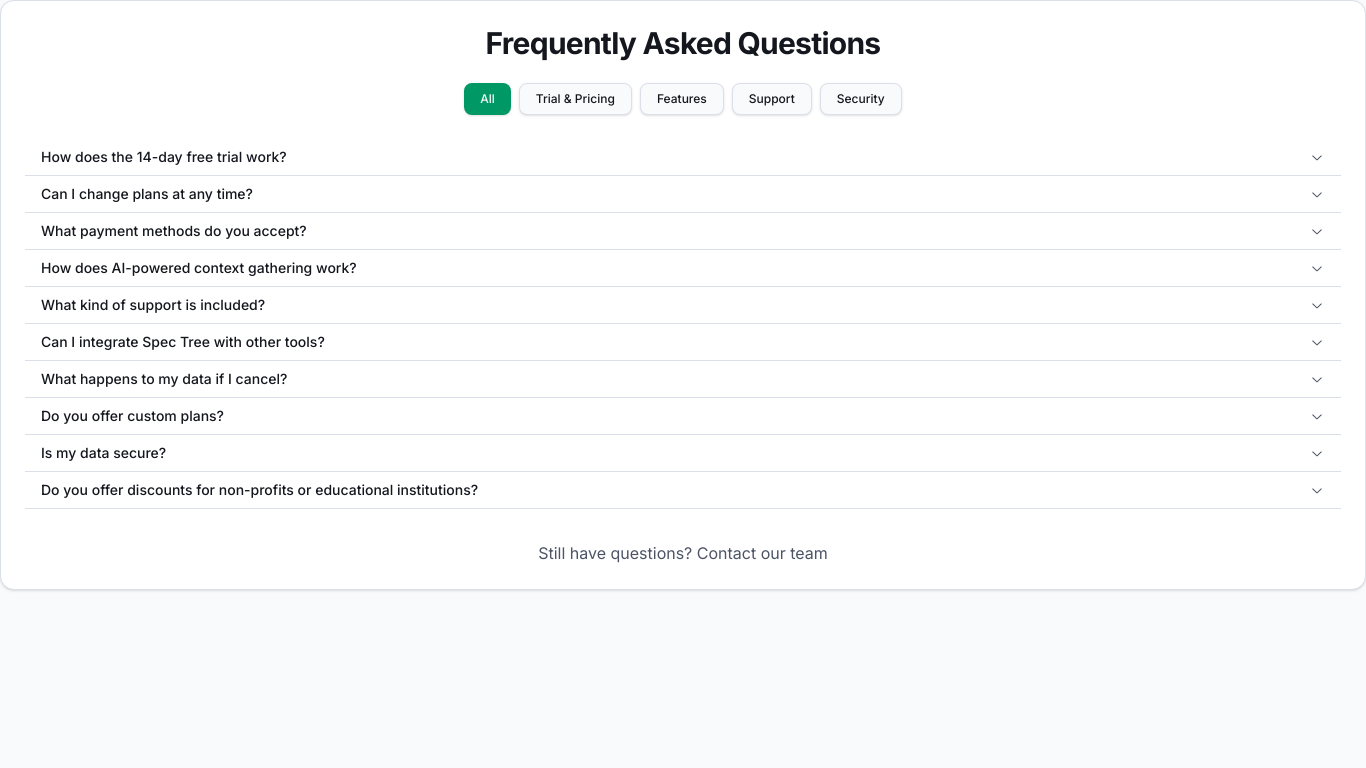
Scenario: PricingFAQ › shows all FAQs when All button is clicked
First filter to Security
Click the button "Security".
click(861, 99)  # box [820,83,902,115]
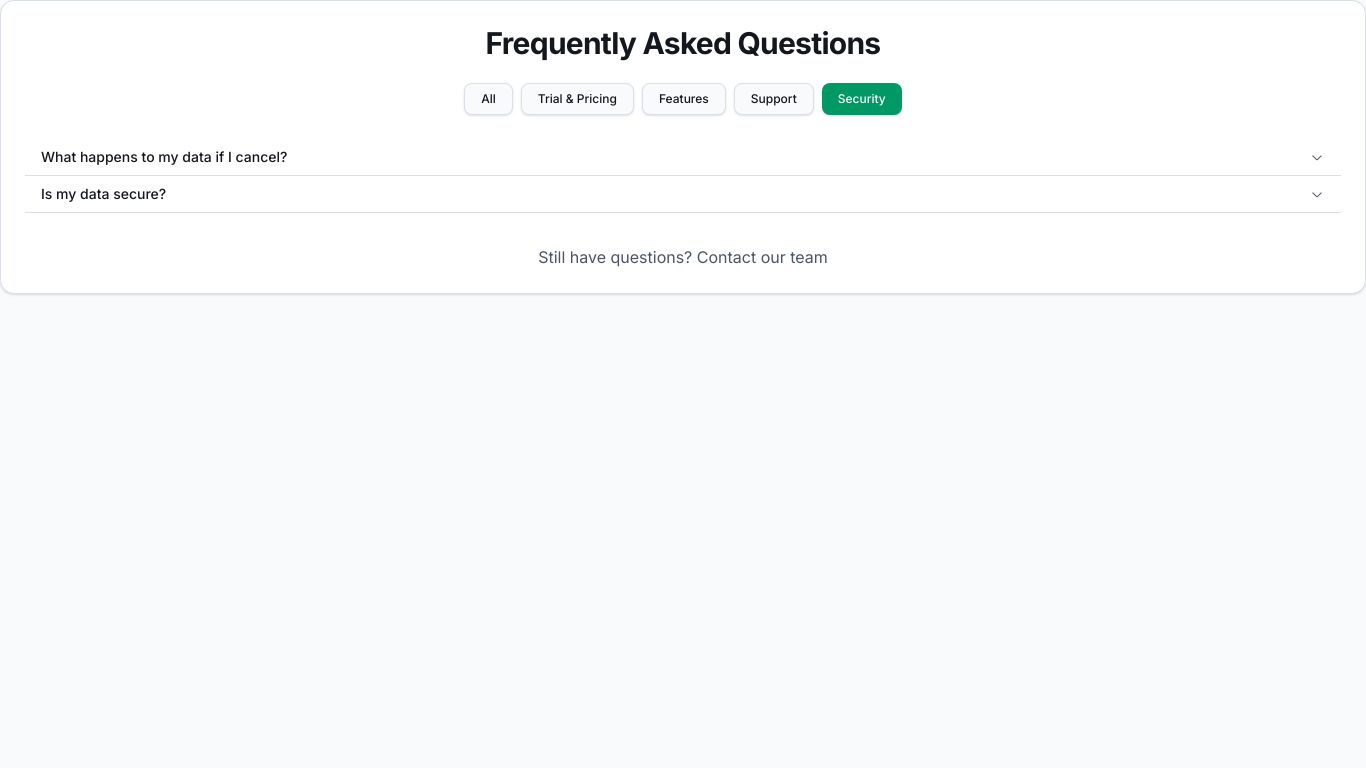
Then click All
Click the button "All".
click(489, 99)  # box [464,83,513,115]
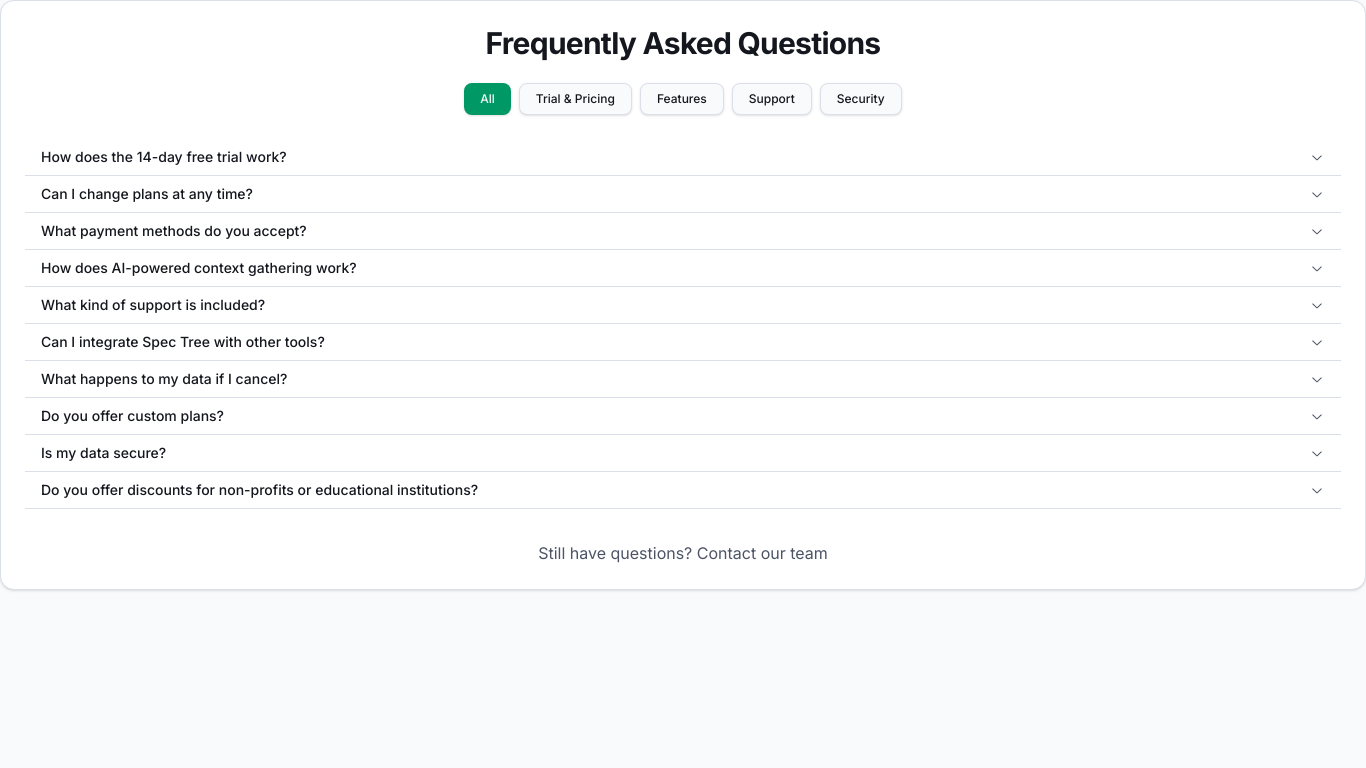
expect the button "What happens to my data if I cancel?" is shown: met, box [25,361,1341,397]
expect the button "How does the 14-day free trial work?" is shown: met, box [25,139,1341,175]
